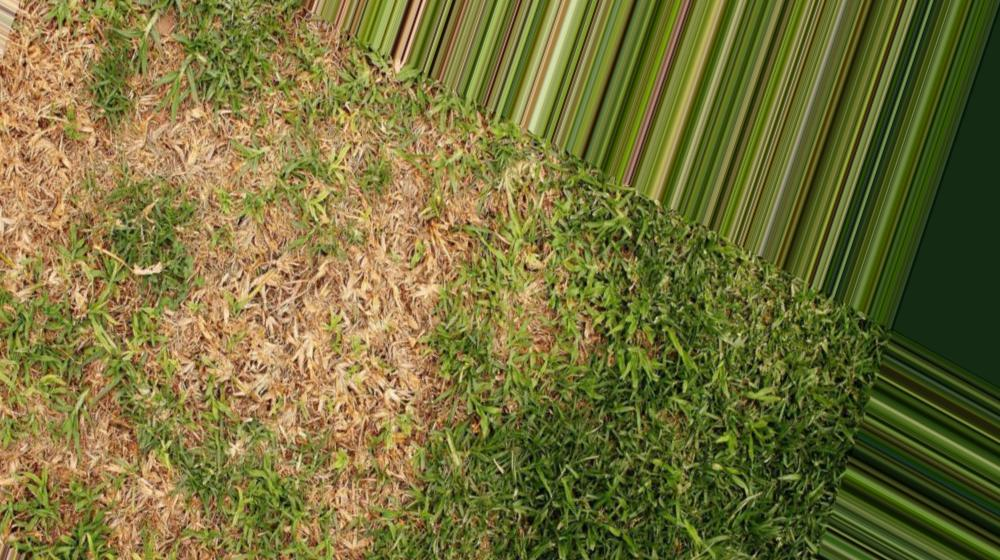patch: (116, 250, 474, 380), (123, 416, 454, 546), (144, 73, 395, 223), (471, 241, 659, 368), (21, 65, 103, 216)
